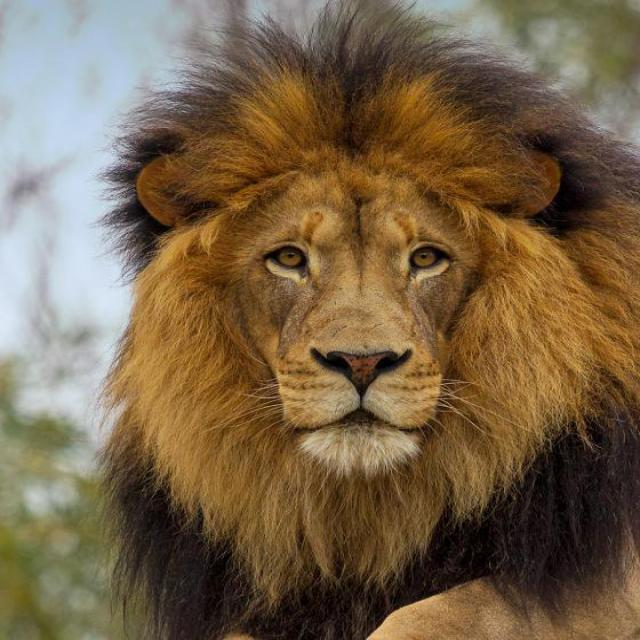Lion: (89, 0, 638, 638)
